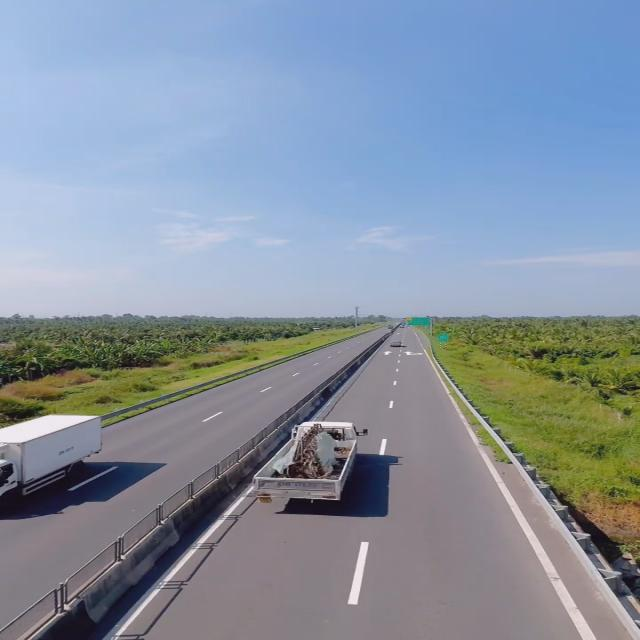truck: (249, 417, 363, 501), (2, 411, 106, 503)
